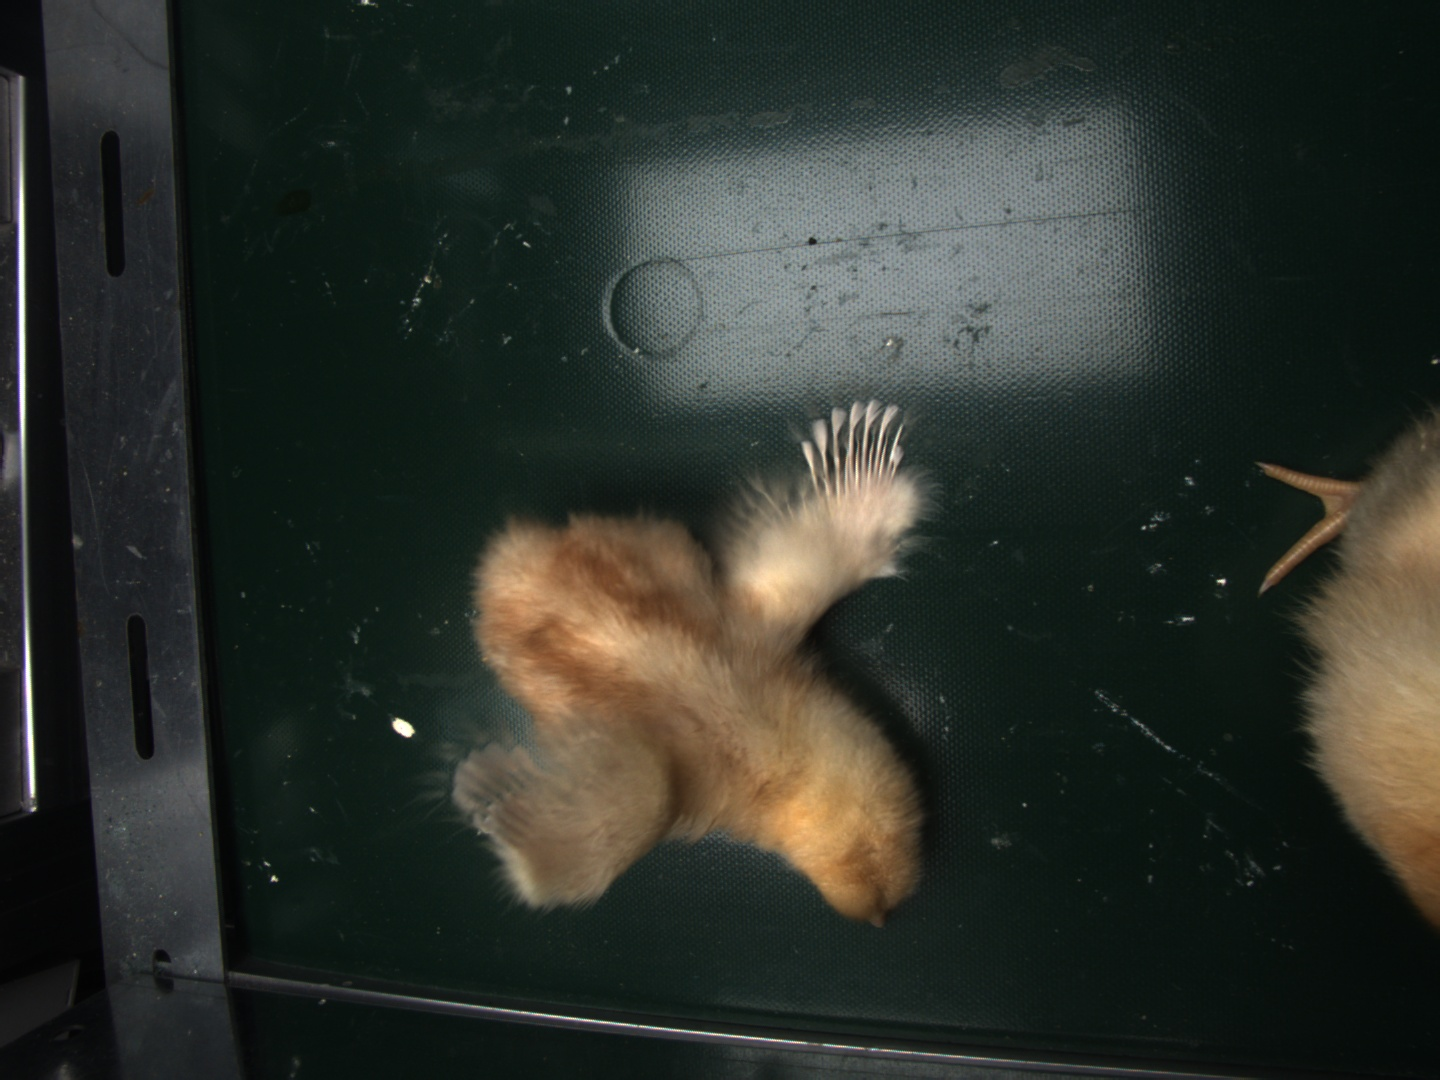female: (804, 400, 905, 501)
